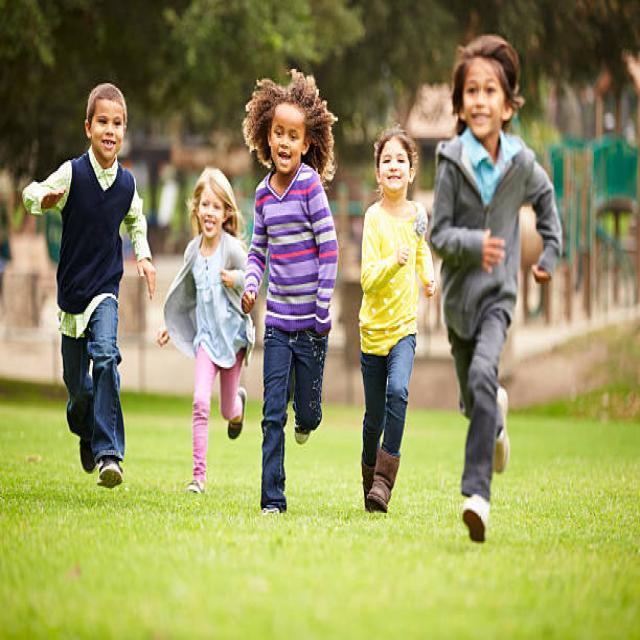Person: (432, 35, 563, 539), (23, 83, 153, 489), (240, 69, 338, 505), (156, 166, 256, 493), (359, 132, 434, 512)
